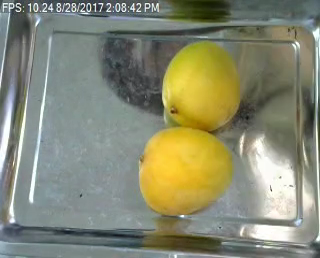Mango: (138, 127, 232, 217), (160, 38, 241, 131)
